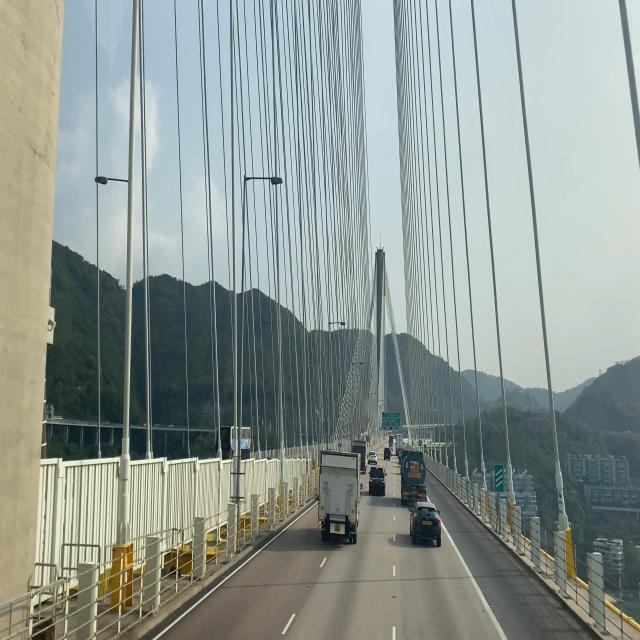Car: (316, 452, 362, 544), (406, 502, 443, 550), (398, 449, 426, 505), (366, 465, 387, 501)
